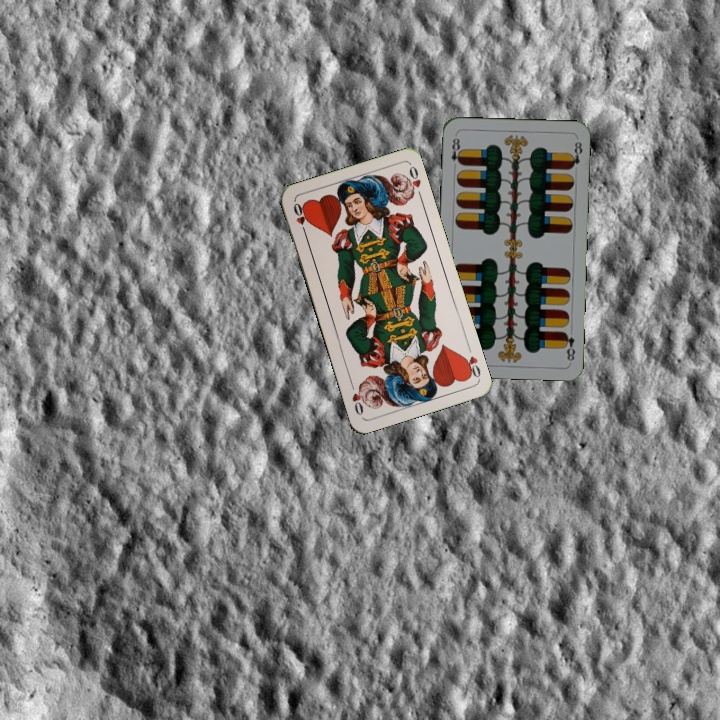E8: (447, 134, 465, 172), (559, 328, 578, 363)
HO: (459, 341, 483, 381), (289, 199, 310, 238)
